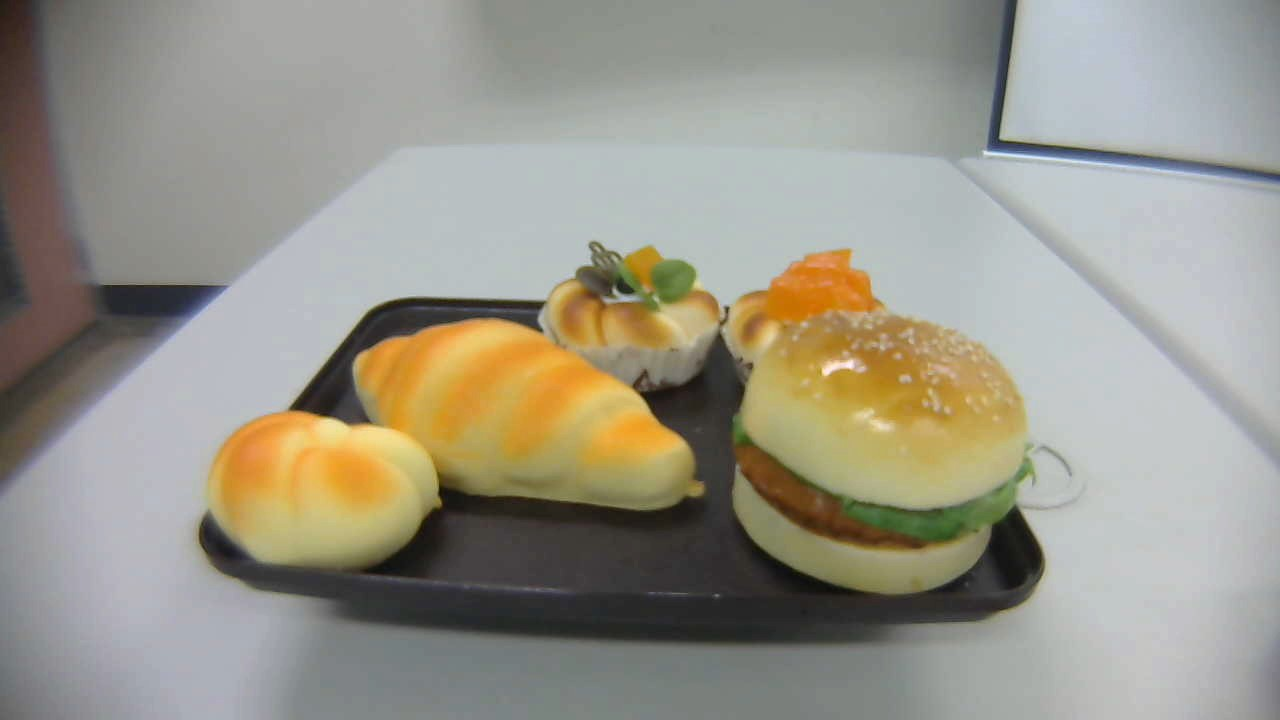croissant: (353, 316, 707, 512)
fruit tart: (538, 241, 719, 394)
hamburger: (731, 309, 1035, 595)
mango tart: (719, 247, 912, 399)
twist bread: (207, 409, 440, 570)
